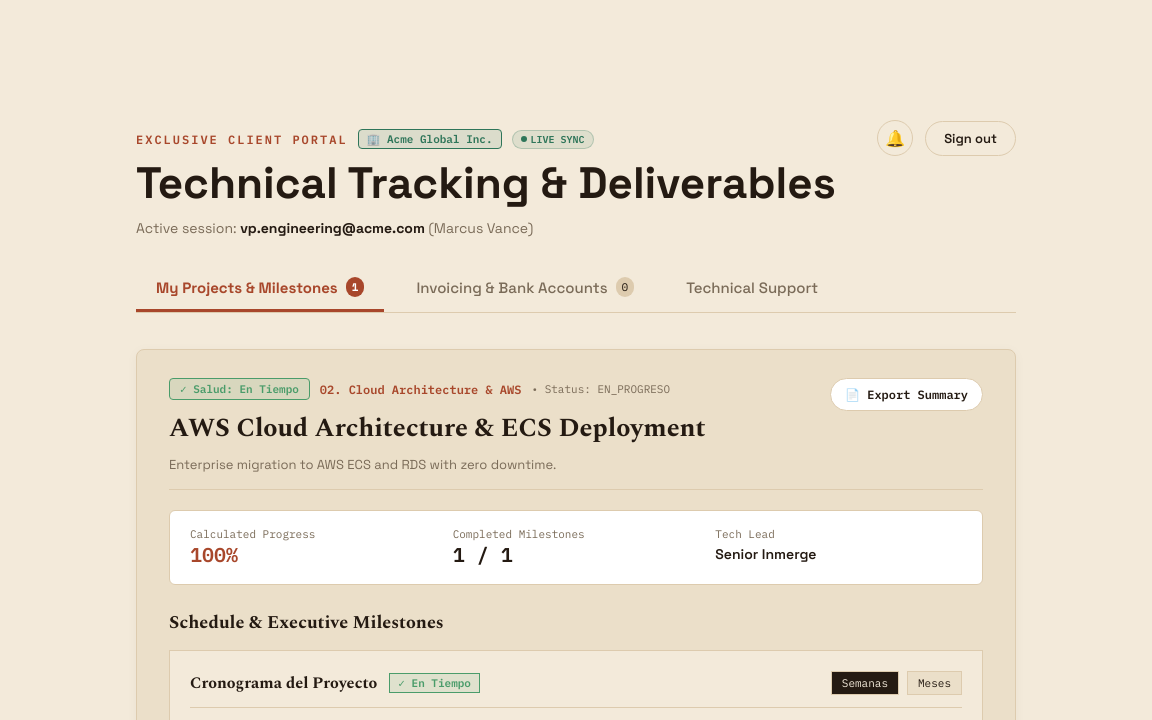
Scenario: Cuenta Component › switches to Invoicing & Bank Accounts tab and displays international wire notice
What coordinates should you click on to do the following:
click the text "Invoicing & Bank Accounts"
I would click on:
 (512, 287)
Its box is 416,278 -> 608,296.
(page scrolled)
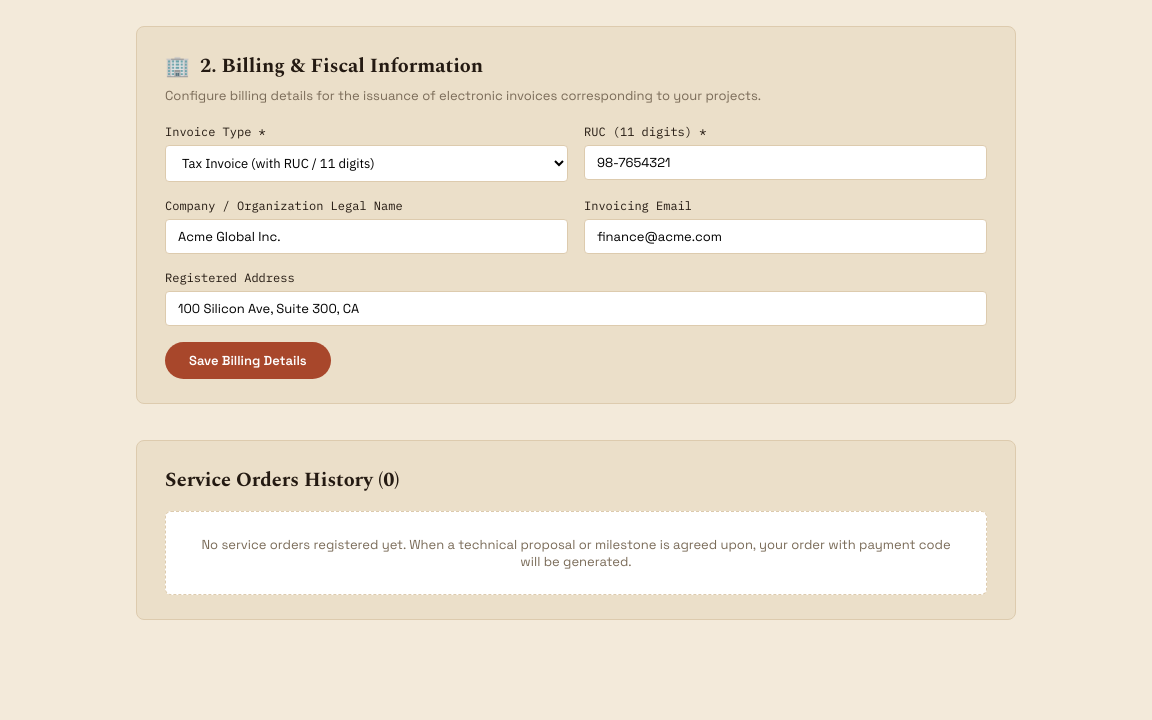
Now the button "Save Billing Details" is shown, box 165,342 -> 331,378
